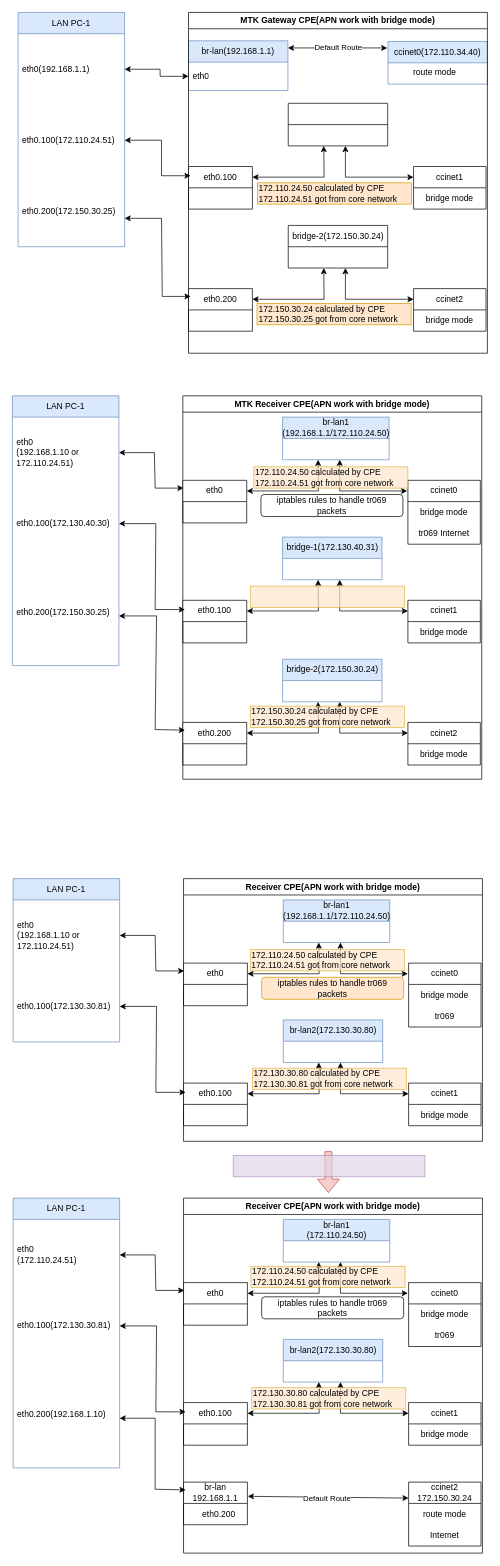
This 500x1566 diagram has some shape labels left out. Each missing label, with the centre of its shape:
"172.130.40.31 calculated by CPE 172.130.40.30 got from core network" belongs at point 327,596.
"Add APN route with slicing mode with vlan" belongs at point 329,1166.
"bridge-1( 172.110.24.50 )" belongs at point 338,124.
